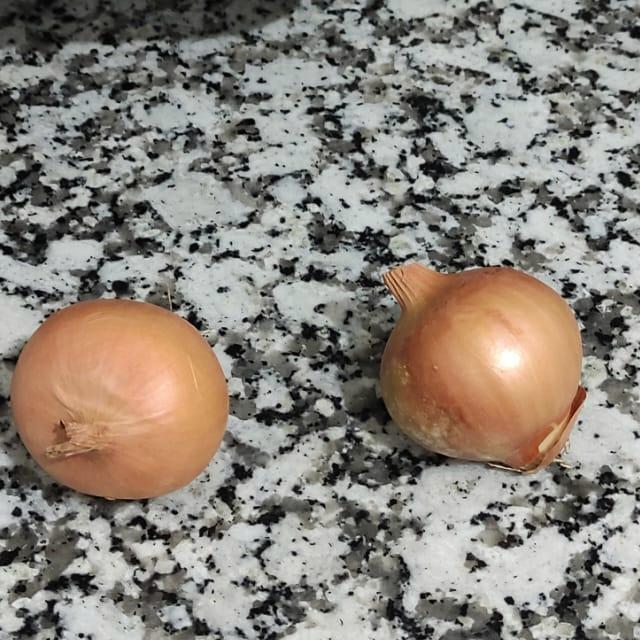onion: (354, 229, 624, 499), (0, 269, 260, 522)
